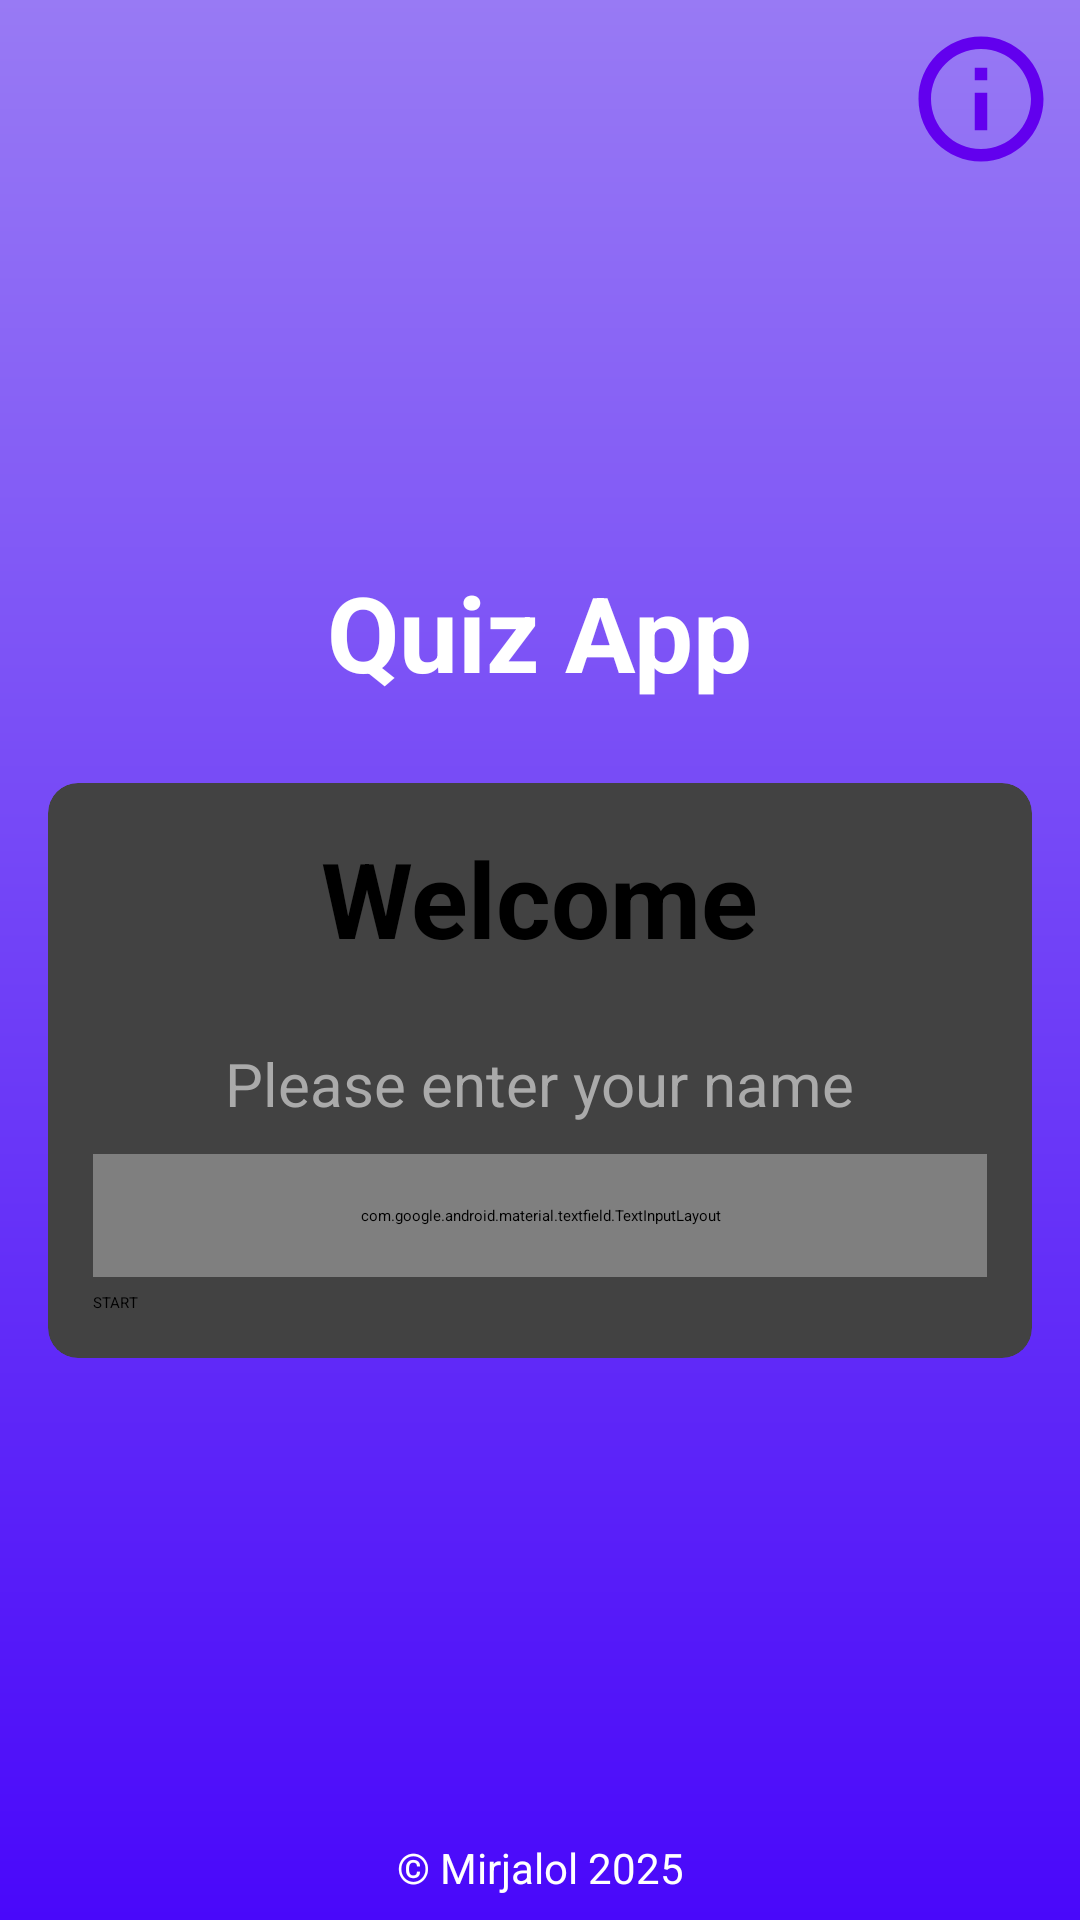

Icons on this 1080 × 1920 Android screen, each with the point to tap as [x,y]:
info: [981,99]
